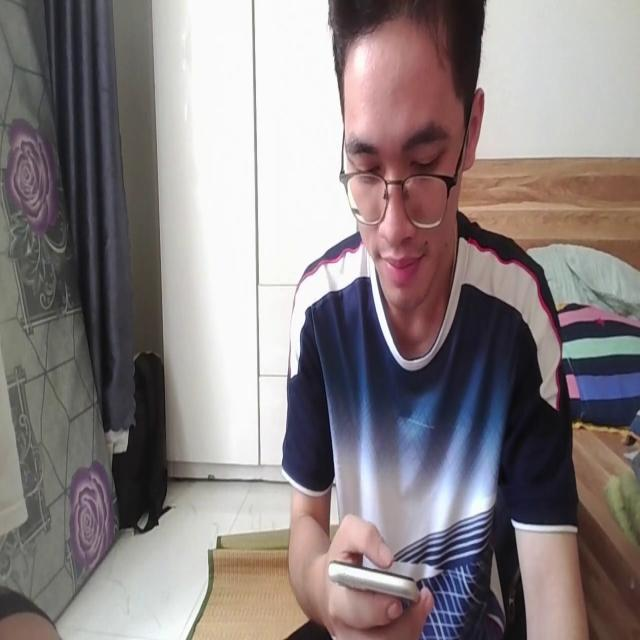phone: (326, 554, 427, 606)
student: (270, 4, 586, 640)
